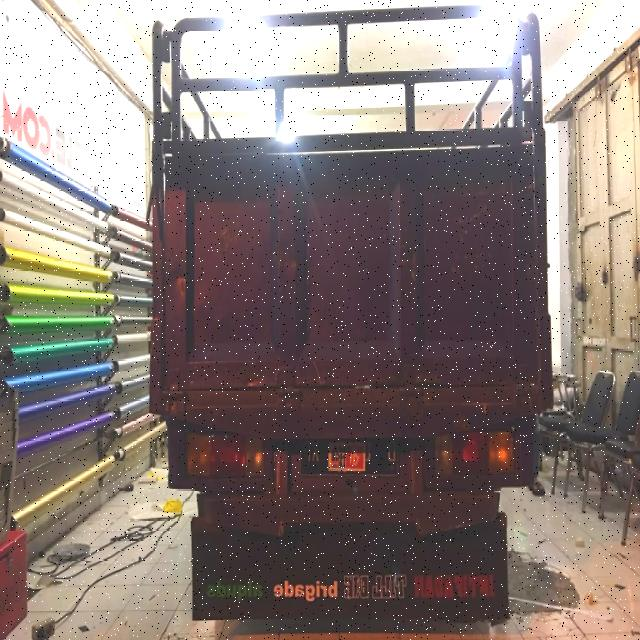truck: (151, 0, 552, 630)
